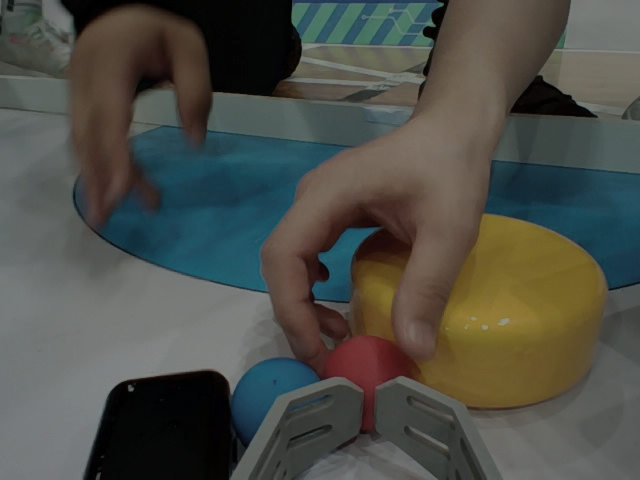black: (84, 369, 275, 480)
blue: (222, 345, 330, 446)
red: (309, 331, 419, 432)
yellow: (341, 203, 619, 411)
